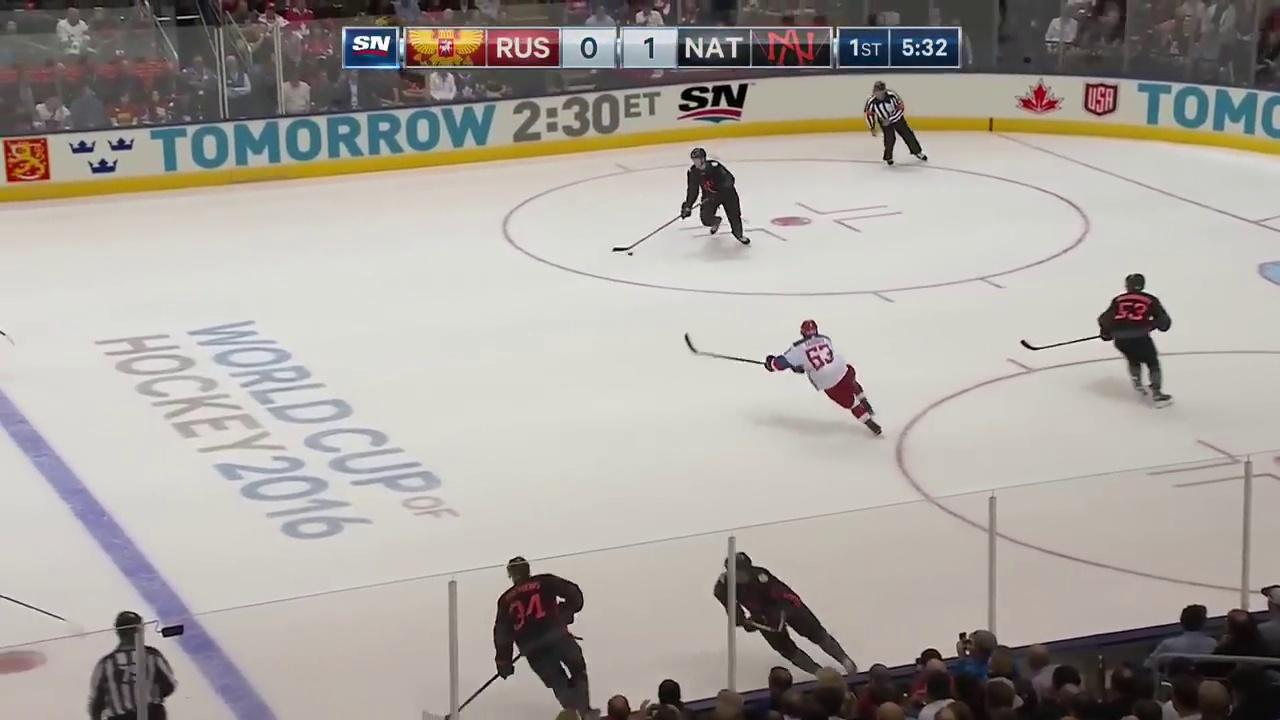ball: (626, 253, 634, 256)
